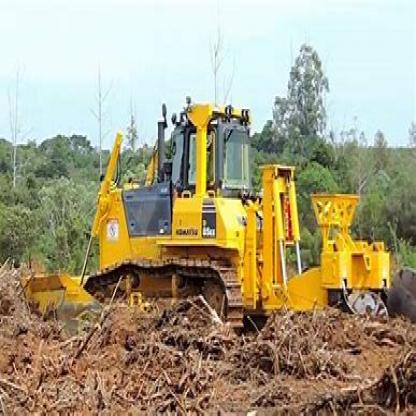bull_dozer/loader/grader: (32, 72, 312, 362)
